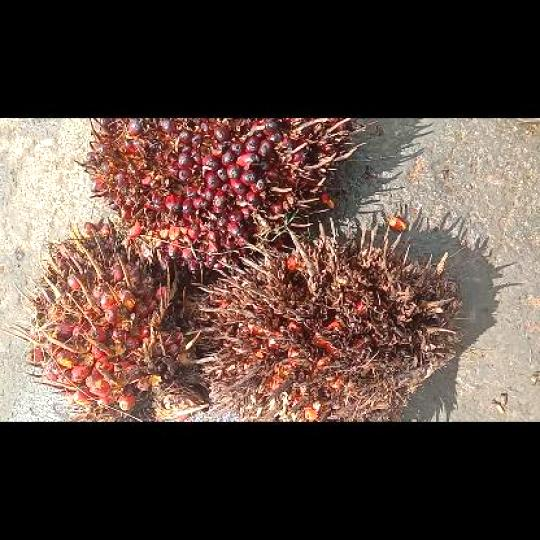masak: (81, 117, 366, 272), (2, 216, 206, 420)
terlalu masak: (184, 218, 460, 421)
